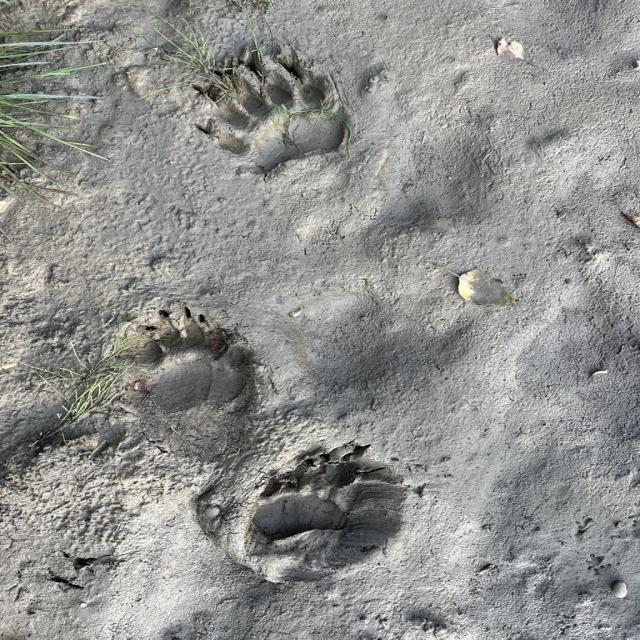bear: (198, 59, 344, 165), (130, 310, 247, 418), (257, 458, 358, 542)
